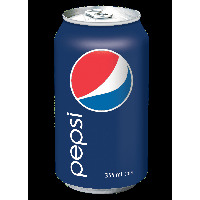pepsi: (55, 5, 148, 192)
